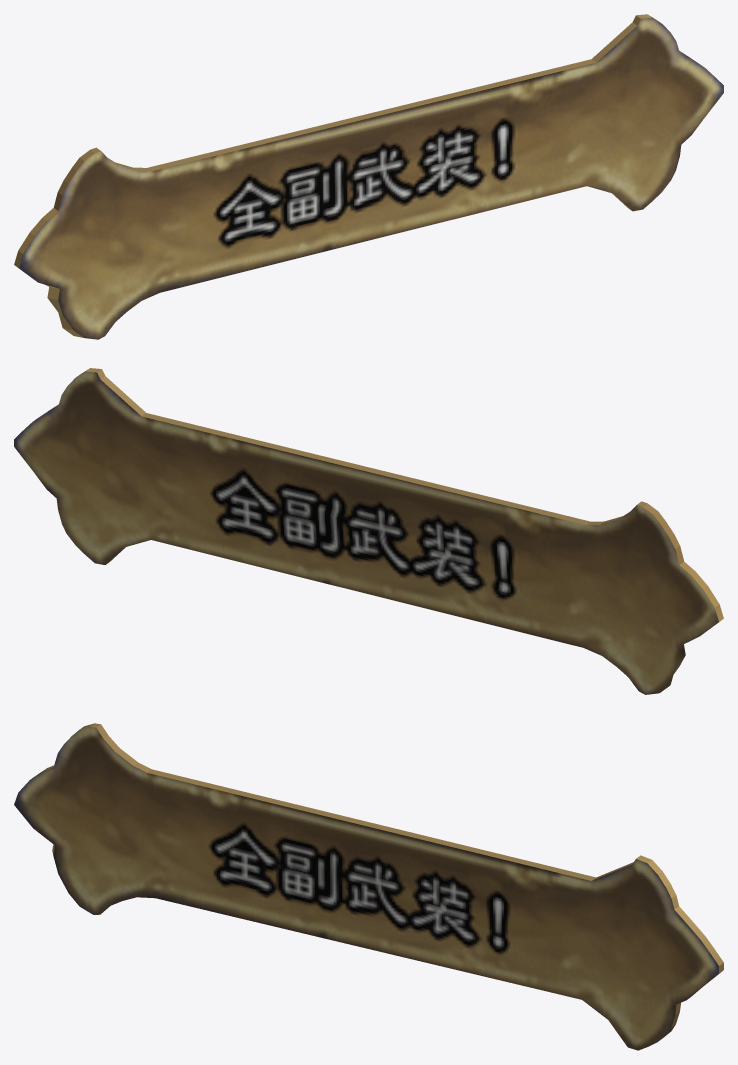
File: NameTag.glb
The picture shows the model from 3 angles, top to bottom: view 1: azimuth 30°, elevation 25°; view 2: azimuth 150°, elevation 25°; view 3: azimuth 330°, elevation 25°; orthographic projection.
Parts seen in each view (by area): view 1: Circle.003; view 2: Circle.003; view 3: Circle.003.
Part boxes in pixels (bbox=[...]): Circle.003: bbox=[14, 14, 723, 339]; Circle.003: bbox=[14, 368, 723, 694]; Circle.003: bbox=[14, 723, 723, 1050].
Size of the model in its own units: 5.91 by 1.53 by 0.07.
1 material, 1 textured.
